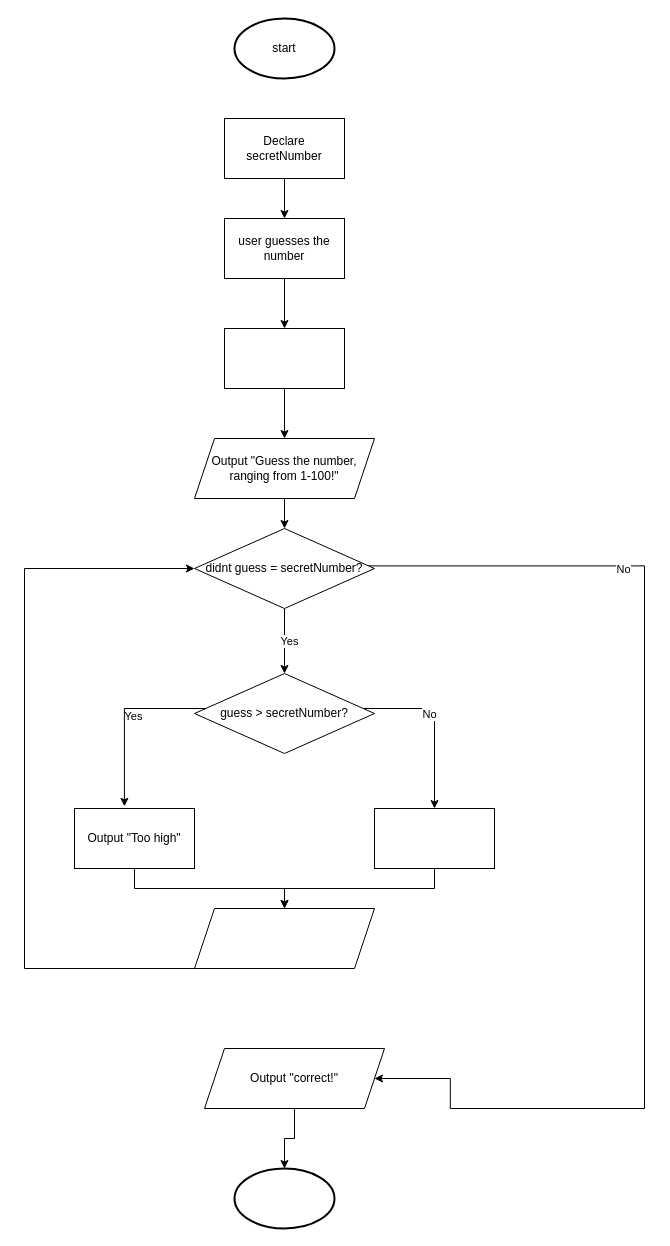
The diagram is 670 pixels wide and 1246 high, and some of its shapes have lost their labels. The shapes that lost their labels are listed below. From the top down, each one's centre as x and y in pixels, then its label:
[284,358]: secretNumber = a number picked (ranging from 1-100"
[434,838]: Output "Too low"
[284,938]: Input guess
[284,1198]: end
